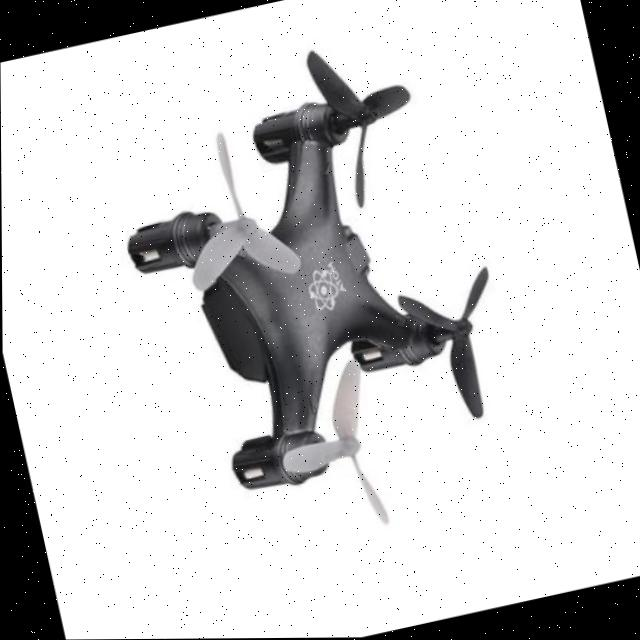drones: (61, 0, 611, 629)
